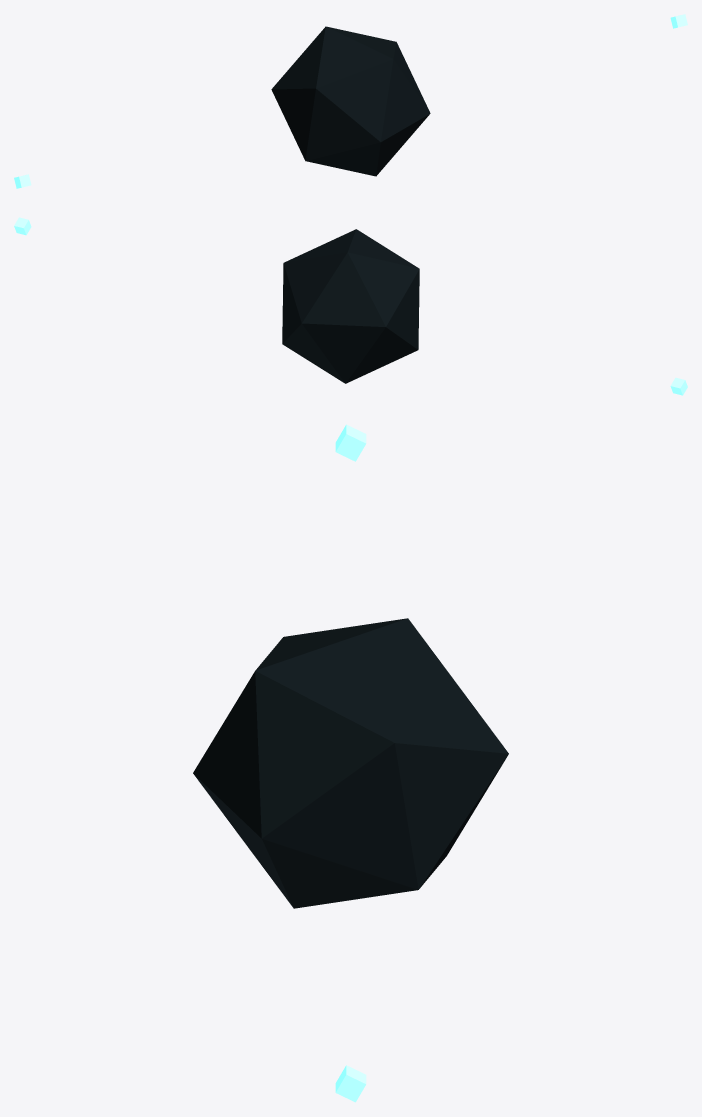
Rendered from jarvis-core.glb.
The picture shows the model from 3 angles, top to bottom: view 1: azimuth 30°, elevation 25°; view 2: azimuth 150°, elevation 25°; view 3: azimuth 270°, elevation 25°; orthographic projection. The views are drawn at different scales.
Parts seen in each view (by area): view 1: core_faces, beads; view 2: core_faces, beads; view 3: core_faces, beads.
Part boxes in pixels (x1,y1,x2,y2): core_faces: (271, 26, 430, 176); beads: (14, 14, 687, 188); core_faces: (282, 229, 419, 383); beads: (14, 217, 687, 395); core_faces: (193, 618, 508, 908); beads: (335, 424, 366, 1102).
Bounding box in the file's own units: 1.62 × 0.3134 × 0.3337.
